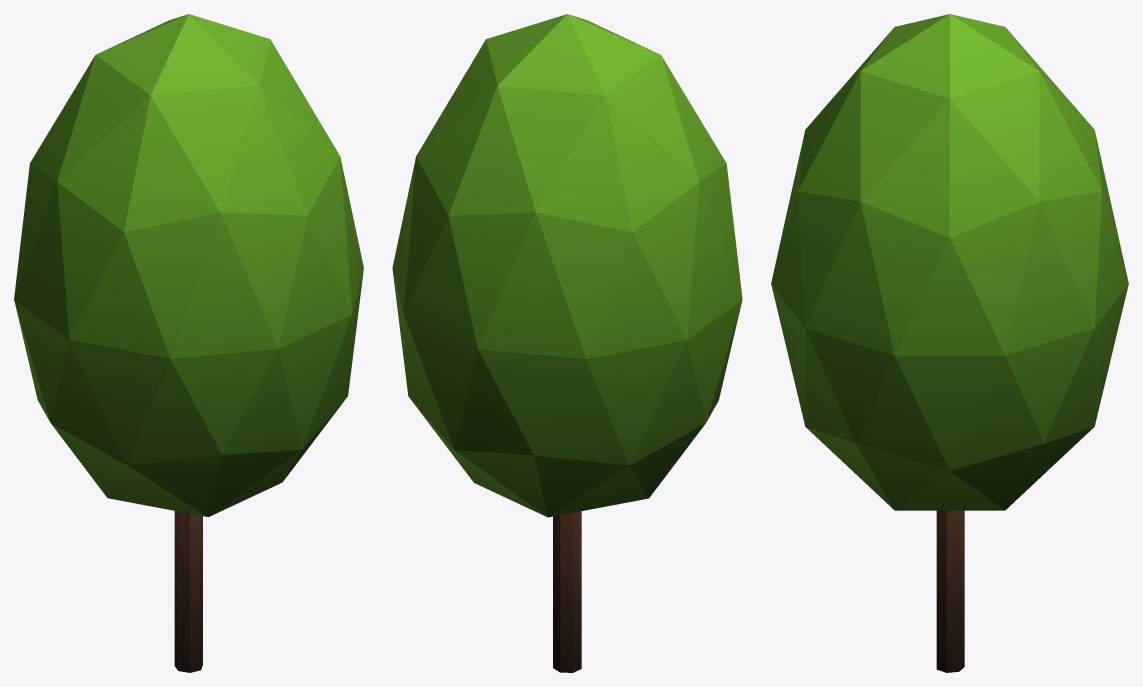
The model's file is tree1.fbx.
The picture shows the model from 3 angles, left to right: view 1: azimuth 30°, elevation 25°; view 2: azimuth 150°, elevation 25°; view 3: azimuth 270°, elevation 25°; orthographic projection.
Visible parts, largest first — view 1: Cube.578; view 2: Cube.578; view 3: Cube.578.
Boxes of the visible parts, left/top/right/bottom form: Cube.578: left=14, top=14, right=363, bottom=672; Cube.578: left=392, top=14, right=742, bottom=672; Cube.578: left=771, top=14, right=1128, bottom=672.
Size of the model in its own units: 7.75 by 16.41 by 8.15.
1 material, 1 textured.
